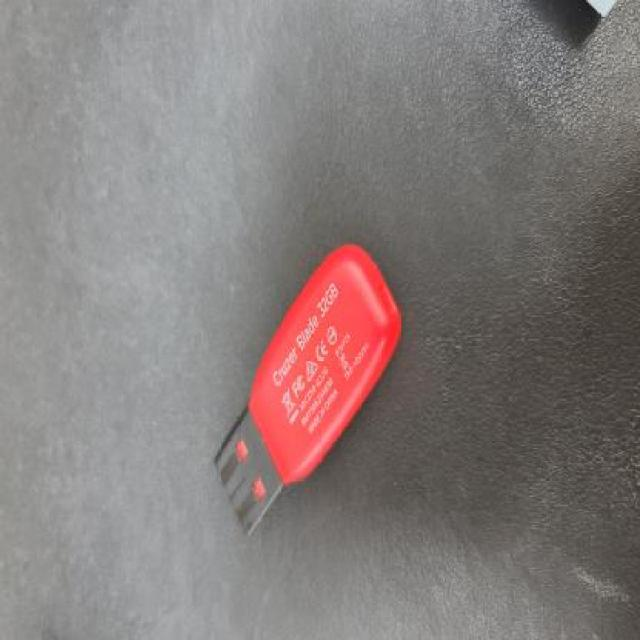Flashdisk: (212, 240, 402, 538)
